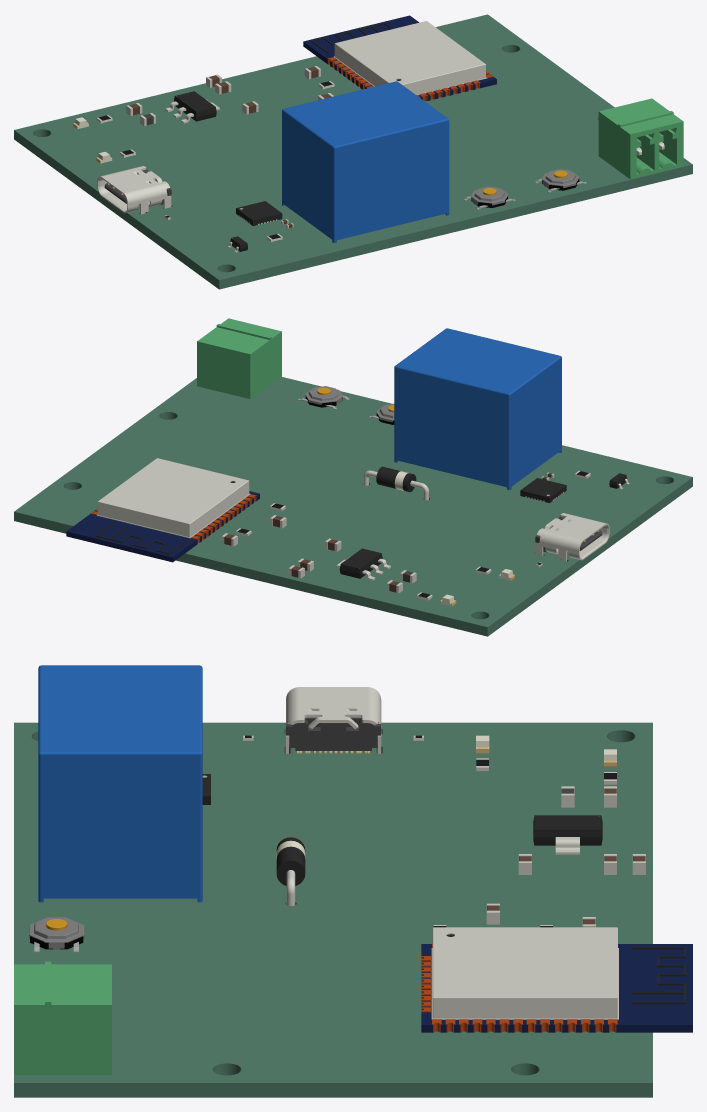
File: ESP32_Simple_IoT_3D.glb
The picture shows the model from 3 angles, top to bottom: view 1: azimuth 30°, elevation 25°; view 2: azimuth 150°, elevation 25°; view 3: azimuth 270°, elevation 25°; orthographic projection. The views are drawn at different scales.
Parts seen in each view (by area): view 1: =>[0:1:1:17], K1, U1, J2, J1, U2, U3, SW2, SW1; view 2: =>[0:1:1:17], K1, U1, J2, J1, U2, D1, U3, SW2; view 3: =>[0:1:1:17], K1, U1, J2, J1, U2, SW1, D1.
Boxes of the visible parts, left/top/right/bottom form: =>[0:1:1:17]: left=14, top=14, right=692, bottom=289; K1: left=282, top=81, right=449, bottom=242; U1: left=303, top=15, right=496, bottom=101; J2: left=598, top=98, right=683, bottom=179; J1: left=97, top=166, right=171, bottom=214; U2: left=165, top=91, right=219, bottom=123; U3: left=236, top=201, right=282, bottom=225; SW2: left=535, top=169, right=586, bottom=192; SW1: left=463, top=186, right=515, bottom=209; =>[0:1:1:17]: left=14, top=376, right=692, bottom=636; K1: left=394, top=328, right=561, bottom=489; U1: left=66, top=458, right=259, bottom=562; J2: left=197, top=318, right=281, bottom=399; J1: left=535, top=513, right=609, bottom=561; U2: left=336, top=548, right=390, bottom=580; D1: left=363, top=466, right=428, bottom=500; U3: left=520, top=478, right=566, bottom=502; SW2: left=297, top=386, right=349, bottom=409; =>[0:1:1:17]: left=14, top=722, right=652, bottom=1097; K1: left=38, top=665, right=202, bottom=902; U1: left=421, top=927, right=692, bottom=1032; J2: left=14, top=961, right=111, bottom=1074; J1: left=286, top=687, right=381, bottom=753; U2: left=533, top=815, right=602, bottom=854; SW1: left=29, top=917, right=84, bottom=952; D1: left=276, top=837, right=305, bottom=905.
Size of the model in its own units: 0.0807 by 0.019 by 0.0637.
